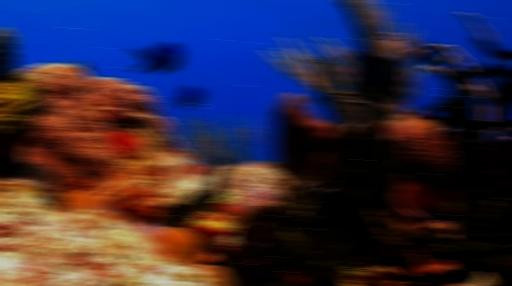Fish: (349, 51, 406, 102), (129, 43, 182, 74), (176, 85, 203, 114), (70, 60, 91, 75), (306, 95, 319, 103)
